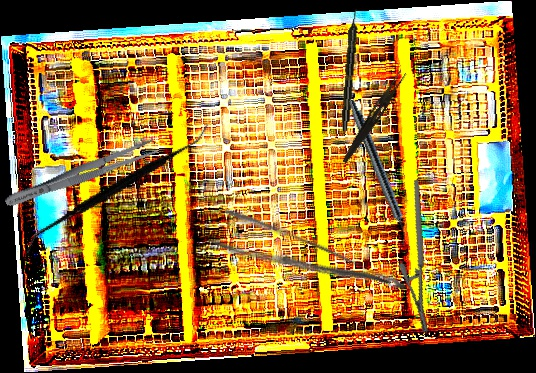Dressing Forceps: (210, 204, 409, 323), (2, 135, 159, 213), (341, 67, 407, 167)
Handpiece: (343, 97, 415, 247), (339, 8, 361, 132)
Needle Holder: (374, 179, 469, 335)
Spatula Surgical: (24, 76, 210, 303)
